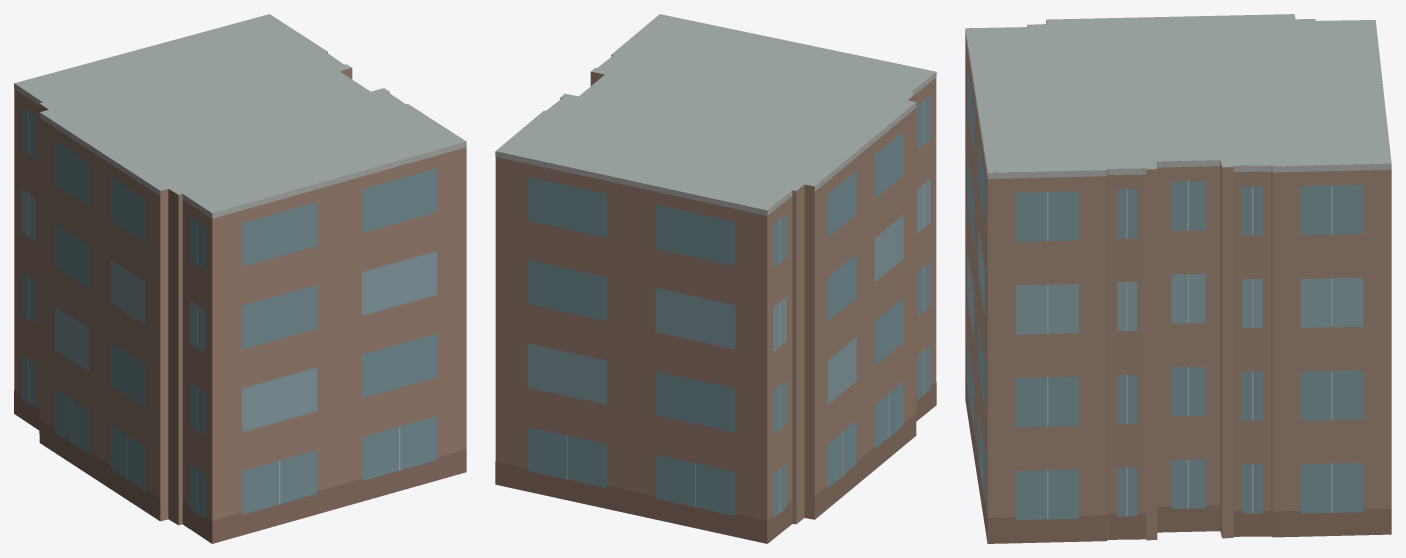
The model's file is survey-upis-32655506.glb.
3 renders of one model, left to right at view 1: azimuth 30°, elevation 25°; view 2: azimuth 150°, elevation 25°; view 3: azimuth 270°, elevation 25°, orthographic. The views are drawn at different scales.
Visible parts, largest first — view 1: survey-upis-32655506.tmp; view 2: survey-upis-32655506.tmp; view 3: survey-upis-32655506.tmp.
Part boxes in pixels (box(x1,y1,x2,y2)): survey-upis-32655506.tmp: box(14, 14, 466, 543); survey-upis-32655506.tmp: box(495, 14, 936, 543); survey-upis-32655506.tmp: box(965, 14, 1391, 543).
Bounding box in the file's own units: 13.61 × 14.8 × 15.43.
